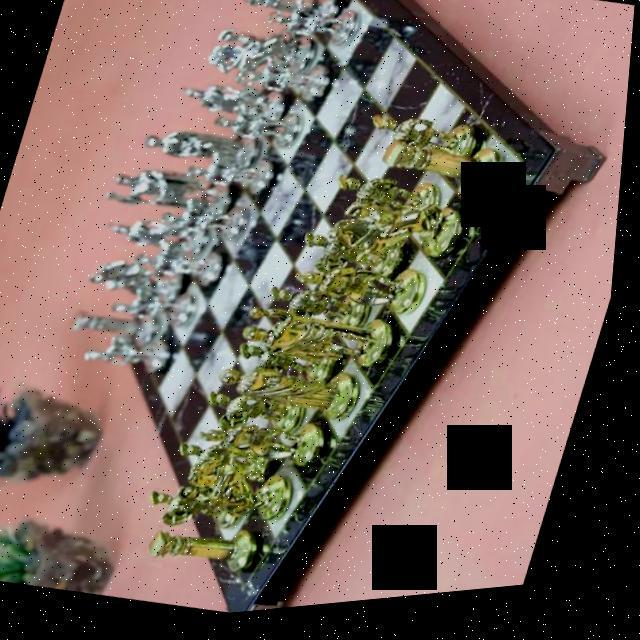chess-table-corners: (221, 549, 296, 615), (494, 144, 552, 206), (126, 303, 168, 365), (308, 0, 370, 24)
